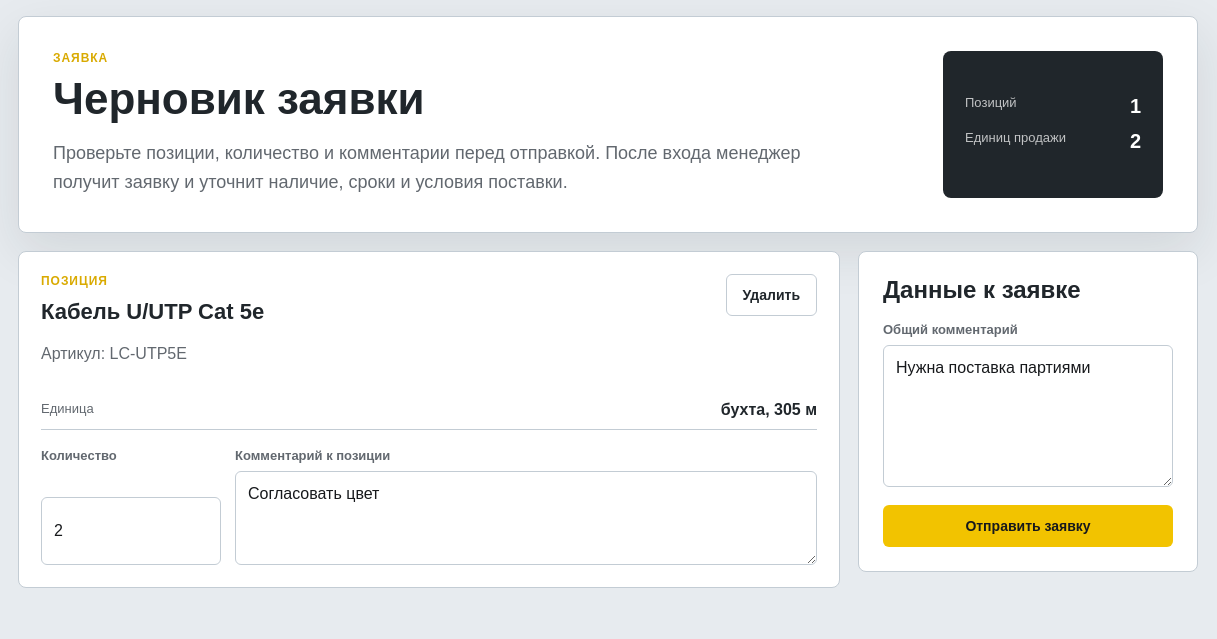
RequestPage › keeps unavailable products in the draft and shows a controlled backend message
The image size is (1217, 639).
Expected: the link "Кабель U/UTP Cat 5e" is shown, x1=41 y1=299 x2=264 y2=324
Step 1. Click the button "Отправить заявку" → (1028, 526), box x1=883 y1=505 x2=1173 y2=547
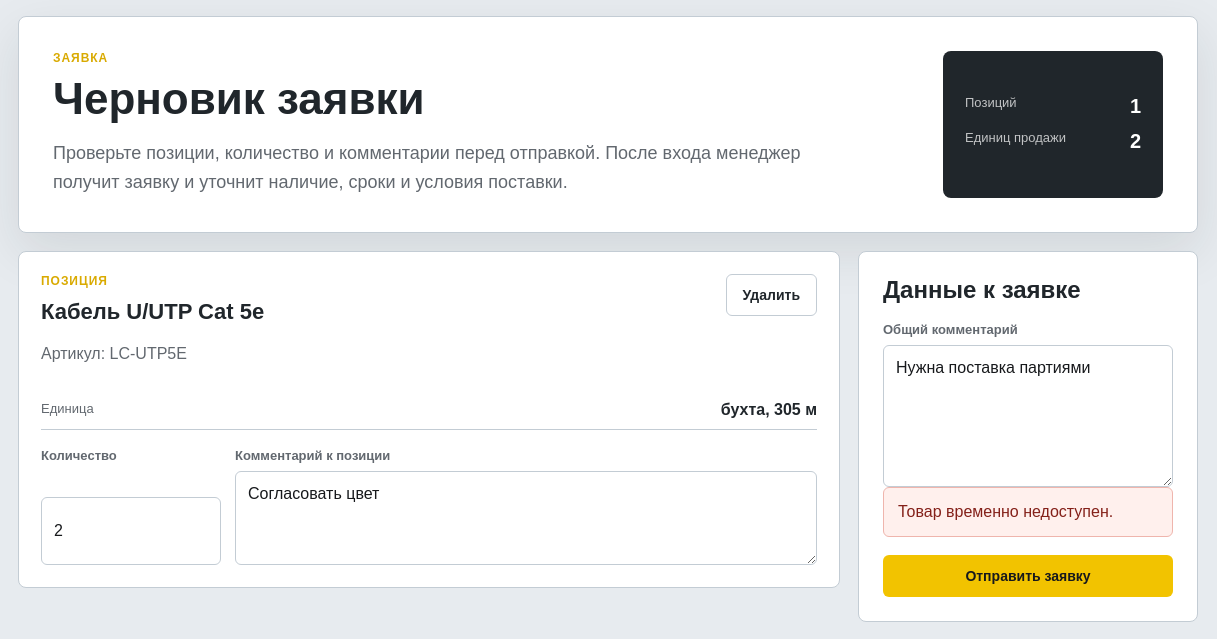
Expected: the link "Кабель U/UTP Cat 5e" is shown, x1=41 y1=299 x2=264 y2=324
Result: the message reads "Товар временно недоступен." at x1=898 y1=503 x2=1113 y2=520
